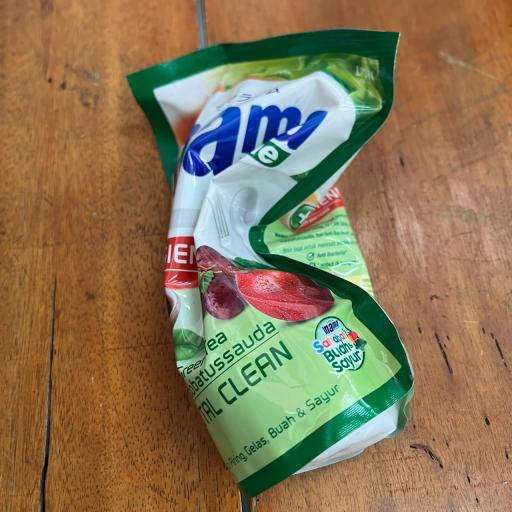Mama Lime Sabun Cuci Piring: (126, 32, 400, 496)
